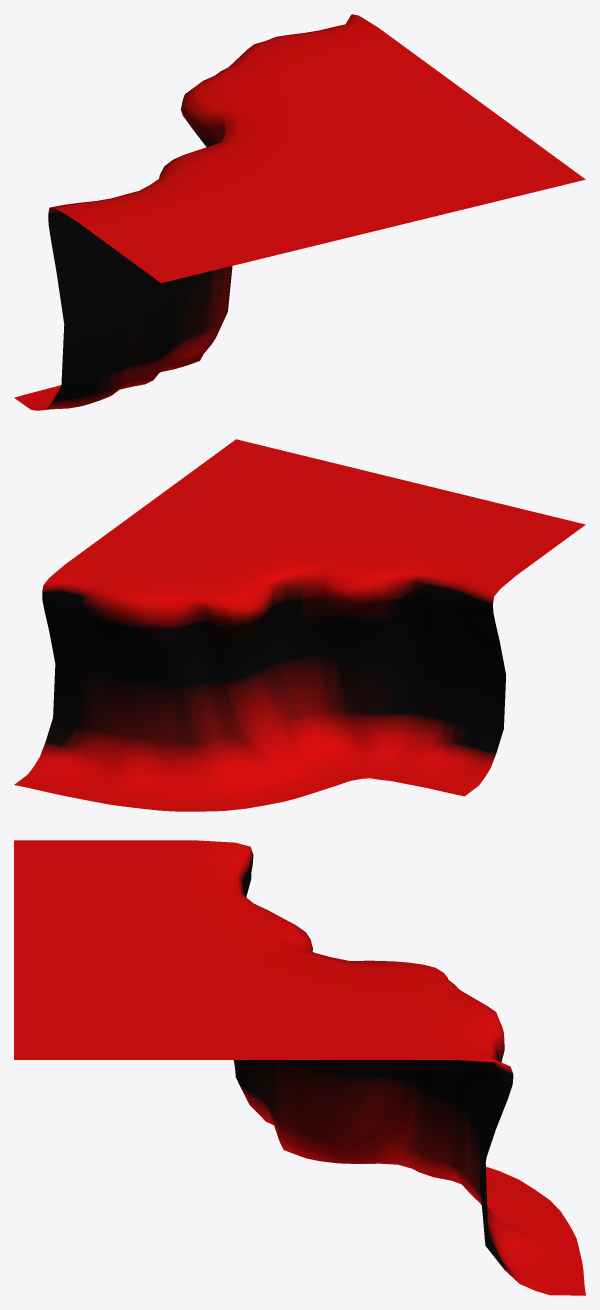
Rendered from GroundCliff05C 1M Foreground.fbx.
3 views of the same model, one above another, from view 1: azimuth 30°, elevation 25°; view 2: azimuth 150°, elevation 25°; view 3: azimuth 270°, elevation 25° (orthographic). The views are drawn at different scales.
Parts seen in each view (by area): view 1: GroundCliff05C 1M Foreground; view 2: GroundCliff05C 1M Foreground; view 3: GroundCliff05C 1M Foreground.
Boxes of the visible parts, x1,y1,x2,y2 form: GroundCliff05C 1M Foreground: [14, 14, 585, 410]; GroundCliff05C 1M Foreground: [14, 439, 585, 811]; GroundCliff05C 1M Foreground: [14, 840, 585, 1295].
Bounding box in the file's own units: 2 × 1 × 2.2.
